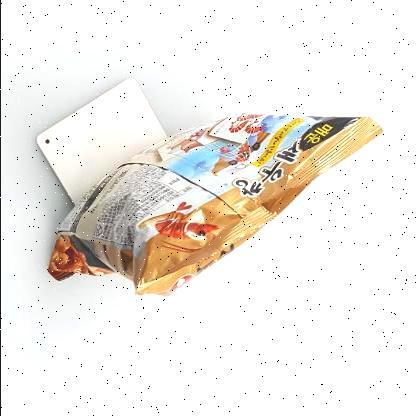Others: (38, 96, 386, 302)
